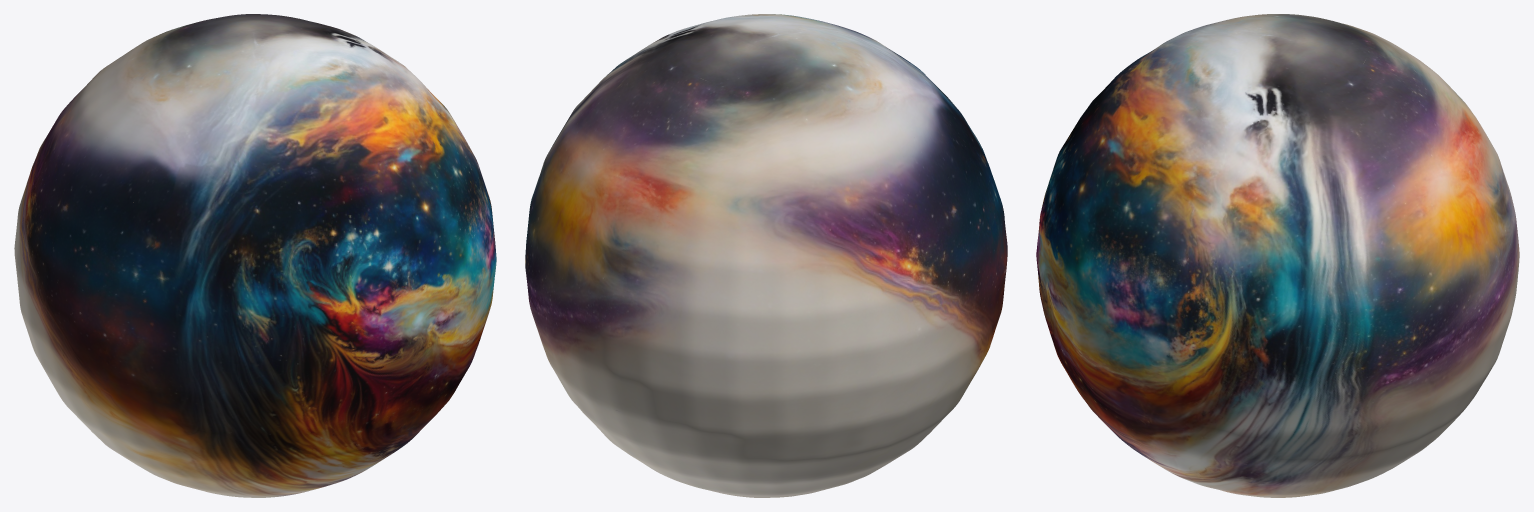
File: Ethereal_Sphere_0918055248.glb
3 renders of one model, left to right at view 1: azimuth 30°, elevation 25°; view 2: azimuth 150°, elevation 25°; view 3: azimuth 270°, elevation 25°, orthographic.
Size of the model in its own units: 2 by 1.99 by 2.
Materials: 1 (1 with a texture image).
